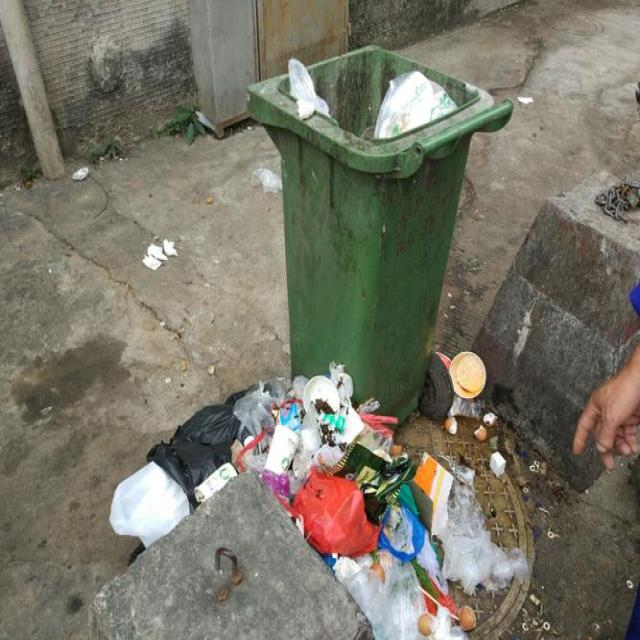garbage: (110, 348, 486, 639)
garbage_bin: (245, 44, 510, 432)
